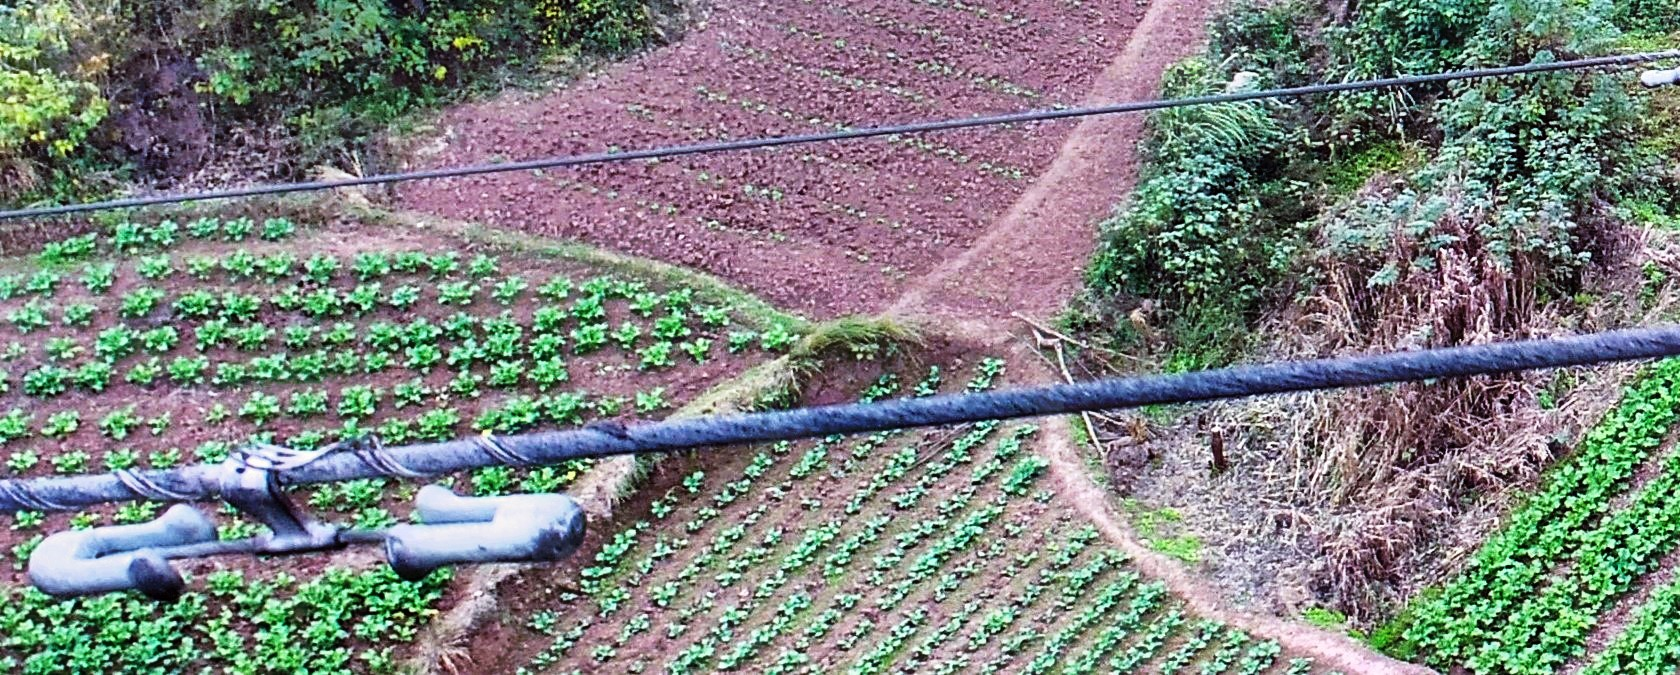Shockproof hammer: (12, 415, 609, 606)
